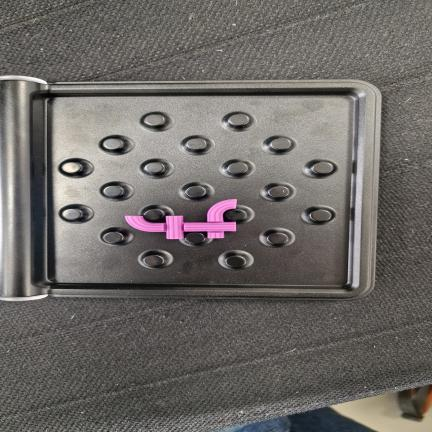H_Purple: (125, 200, 236, 239)
board: (0, 76, 381, 300)
hinge: (0, 79, 50, 299)
pin: (269, 137, 292, 151), (228, 113, 250, 127), (143, 114, 166, 127), (311, 161, 334, 174), (144, 161, 165, 175), (185, 138, 207, 151), (61, 161, 83, 174), (268, 185, 290, 198), (185, 185, 207, 198), (143, 209, 165, 222), (310, 209, 332, 222), (224, 209, 247, 221), (103, 231, 124, 244), (225, 255, 246, 268), (102, 138, 124, 150), (102, 185, 124, 197), (227, 162, 248, 174), (143, 255, 164, 267), (267, 233, 289, 244), (62, 208, 82, 220), (185, 232, 205, 244)
